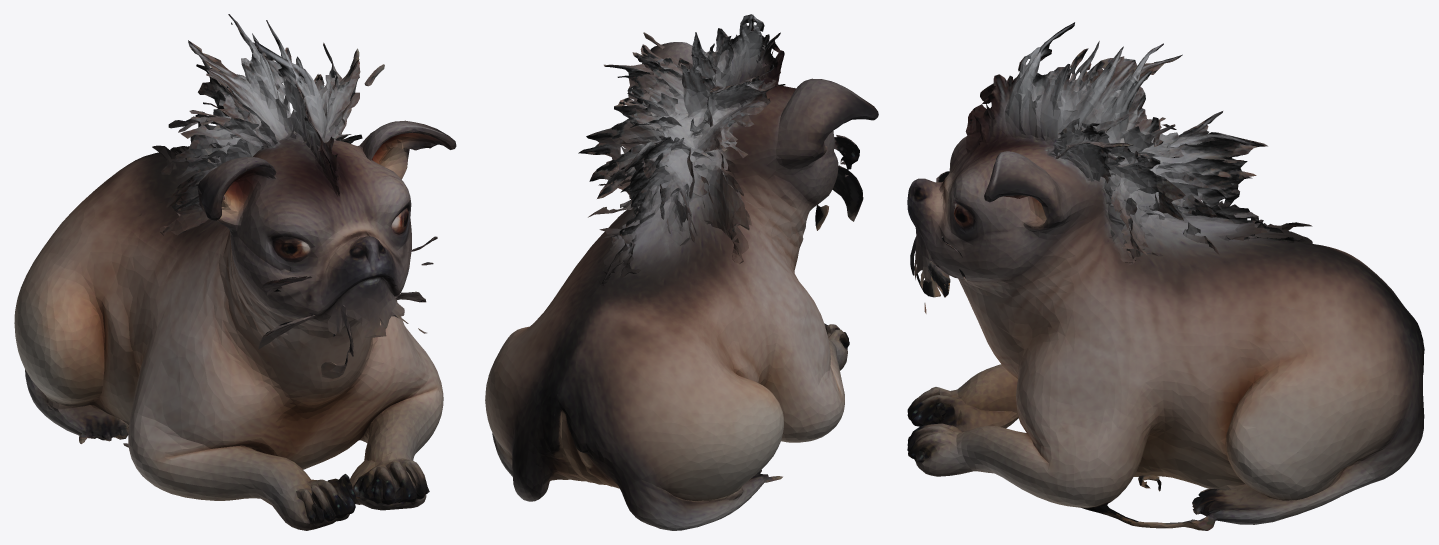
Rendered from perroFeo.glb.
3 views of the same model, side by side, from view 1: azimuth 30°, elevation 25°; view 2: azimuth 150°, elevation 25°; view 3: azimuth 270°, elevation 25° (orthographic). The views are drawn at different scales.
Parts seen in each view (by area): view 1: world; view 2: world; view 3: world.
Boxes of the visible parts, x1,y1,x2,y2 form: world: [14, 14, 456, 530]; world: [485, 14, 878, 530]; world: [907, 22, 1424, 530].
Bounding box in the file's own units: 0.3582 × 0.4796 × 0.5204.
1 material, 1 textured.
